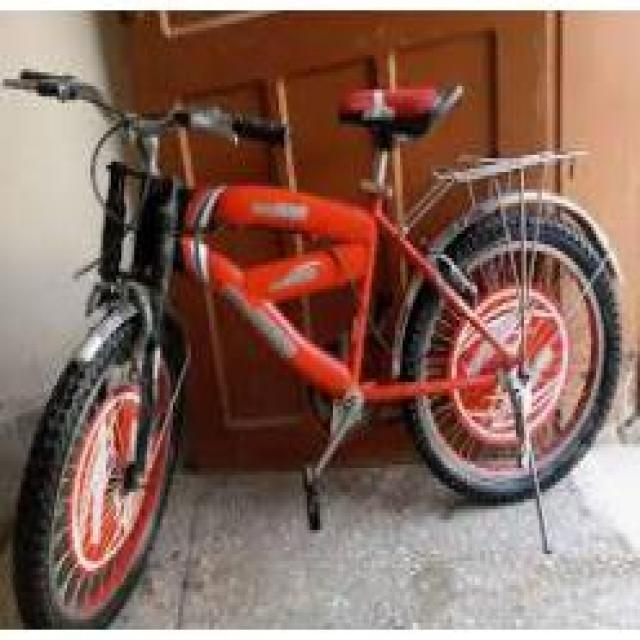bicycle: (9, 56, 636, 531)
